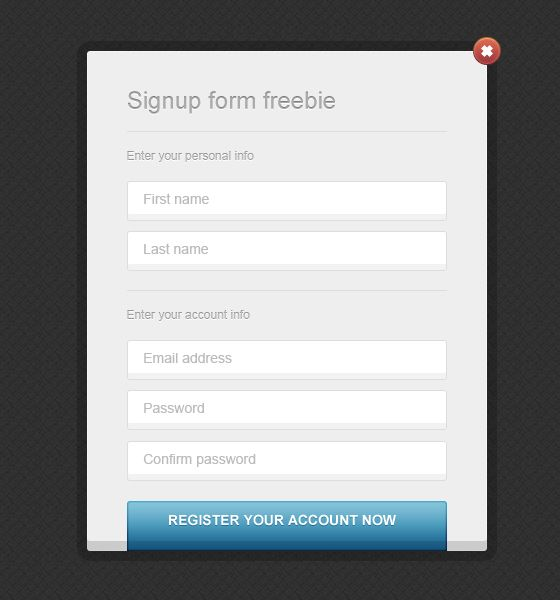_form_: (76, 145, 492, 561)
button: (124, 497, 450, 554)
field: (126, 179, 450, 224), (126, 439, 450, 483), (127, 338, 450, 381), (125, 389, 447, 432), (125, 230, 448, 272)
